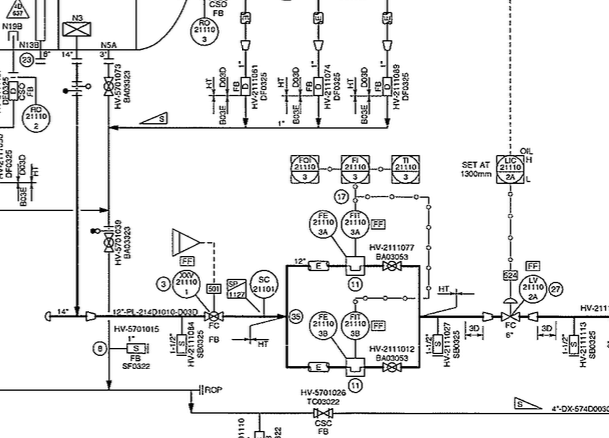Instrument: (247, 259, 281, 305), (19, 101, 56, 136), (188, 15, 223, 50), (341, 310, 372, 345), (308, 308, 340, 341), (307, 206, 337, 241), (519, 273, 549, 308), (172, 268, 203, 301), (340, 208, 370, 240)
Instrument-square: (388, 152, 423, 187), (492, 153, 527, 187), (288, 154, 323, 187), (338, 154, 373, 187)
